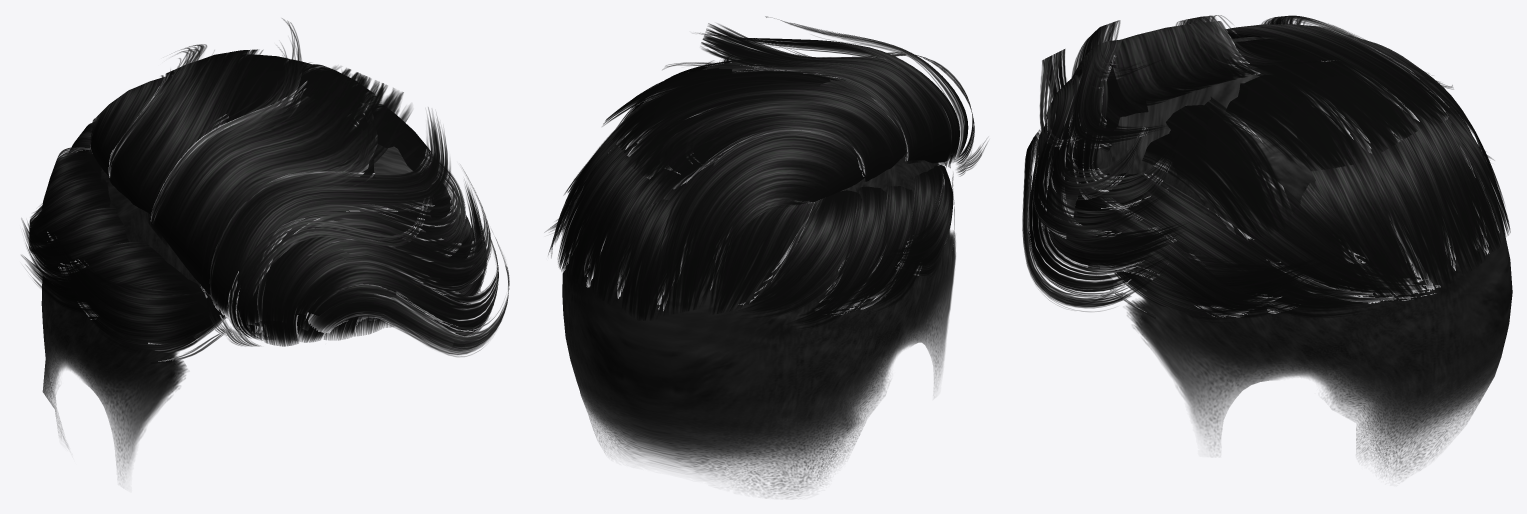
Rendered from Straight_SidePart.glb.
3 renders of one model, left to right at view 1: azimuth 30°, elevation 25°; view 2: azimuth 150°, elevation 25°; view 3: azimuth 270°, elevation 25°, orthographic. The views are drawn at different scales.
Parts seen in each view (by area): view 1: s4studio_mesh_1, face.002_Plane.003, s4studio_mesh_3.003; view 2: s4studio_mesh_1, face.002_Plane.003; view 3: s4studio_mesh_1, face.002_Plane.003, s4studio_mesh_3.003.
Part boxes in pixels (bbox=[...]): s4studio_mesh_1: bbox=[21, 18, 508, 361]; face.002_Plane.003: bbox=[41, 93, 434, 479]; s4studio_mesh_3.003: bbox=[141, 266, 509, 363]; s4studio_mesh_1: bbox=[544, 16, 988, 329]; face.002_Plane.003: bbox=[562, 60, 955, 497]; s4studio_mesh_1: bbox=[1022, 15, 1510, 322]; face.002_Plane.003: bbox=[1063, 37, 1512, 477]; s4studio_mesh_3.003: bbox=[1022, 140, 1155, 318].
Size of the model in its own units: 0.1909 by 0.2163 by 0.2301.
Materials: 2 (2 with a texture image).
